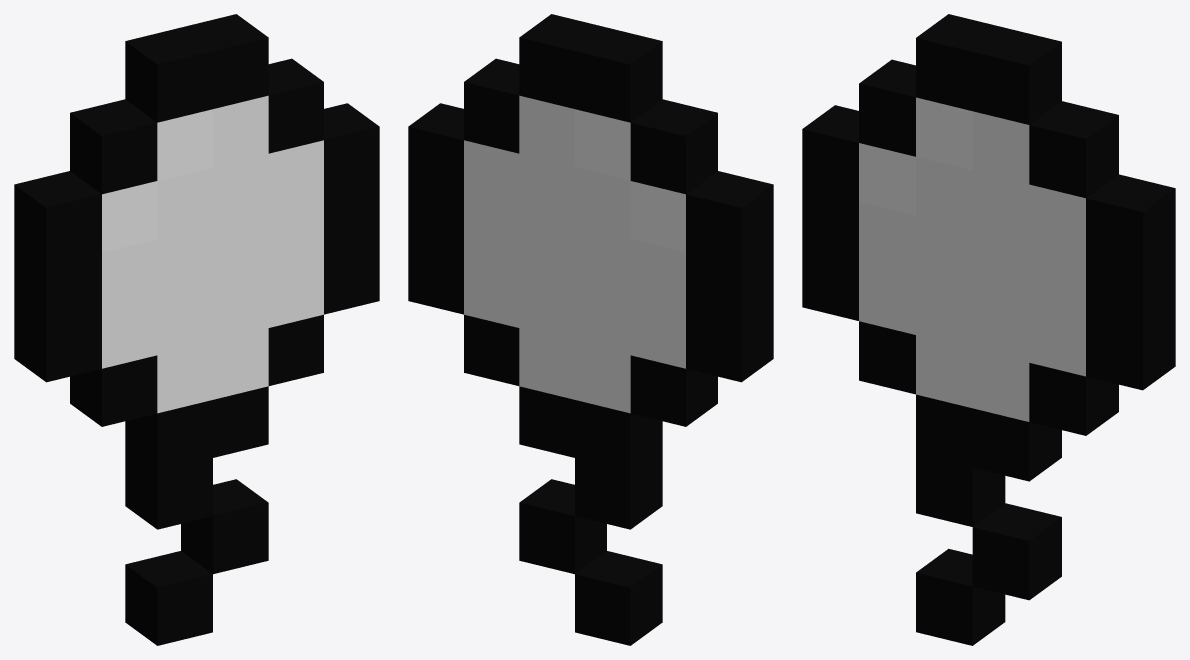
Rendered from White Balloon Item.glb.
3 views of the same model, side by side, from view 1: azimuth 30°, elevation 25°; view 2: azimuth 150°, elevation 25°; view 3: azimuth 330°, elevation 25° (orthographic). The views are drawn at different scales.
Parts seen in each view (by area): view 1: generated(Clone); view 2: generated(Clone); view 3: generated(Clone).
Boxes of the visible parts, left/top/right/bottom form: generated(Clone): left=14, top=14, right=379, bottom=645; generated(Clone): left=408, top=14, right=773, bottom=645; generated(Clone): left=802, top=14, right=1175, bottom=645.
Size of the model in its own units: 6 by 10 by 1.
1 material, 1 textured.
